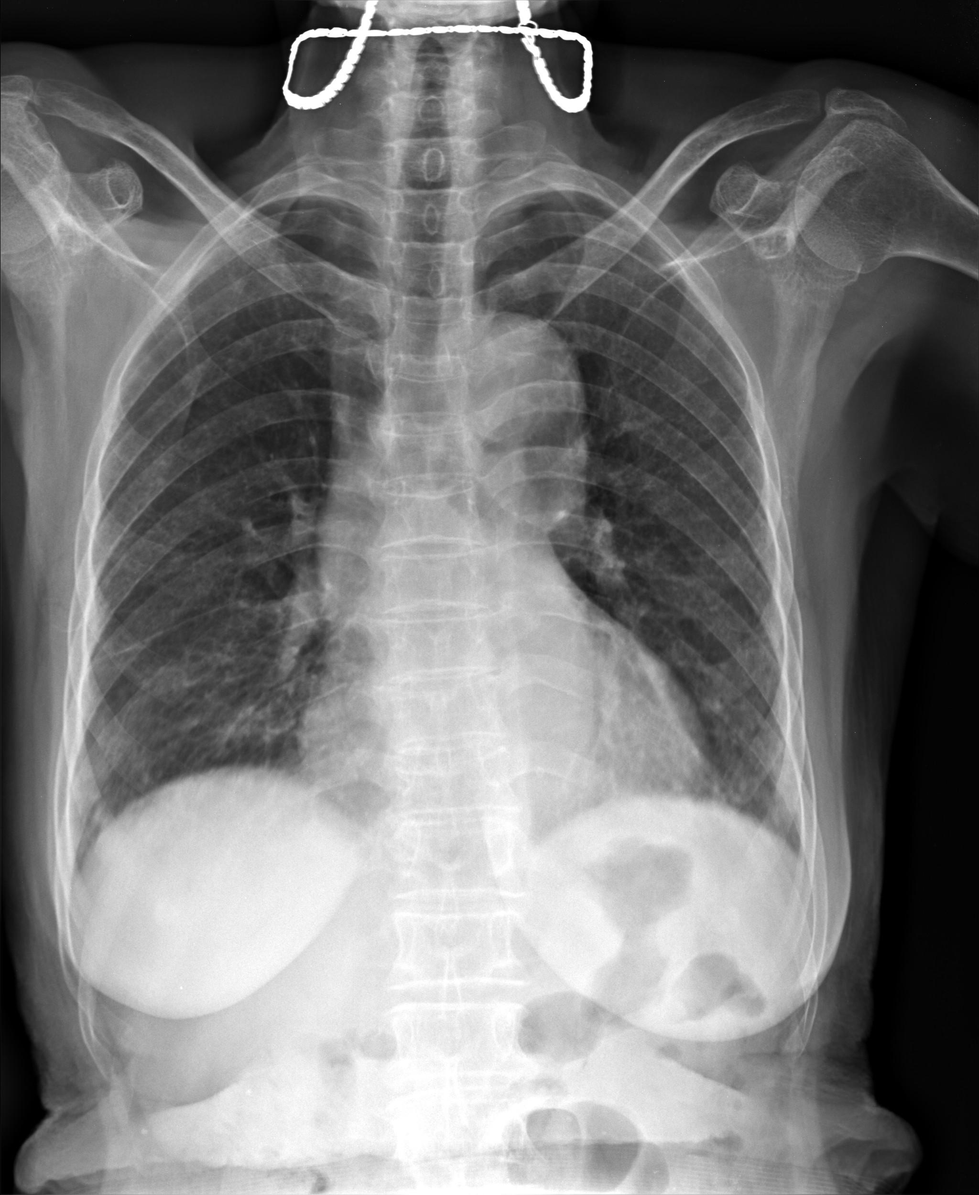Aortic enlargement: (435, 310, 588, 478)
Cardiomegaly: (295, 690, 720, 814)
Pleural thickening: (490, 187, 559, 219), (318, 196, 368, 217)
